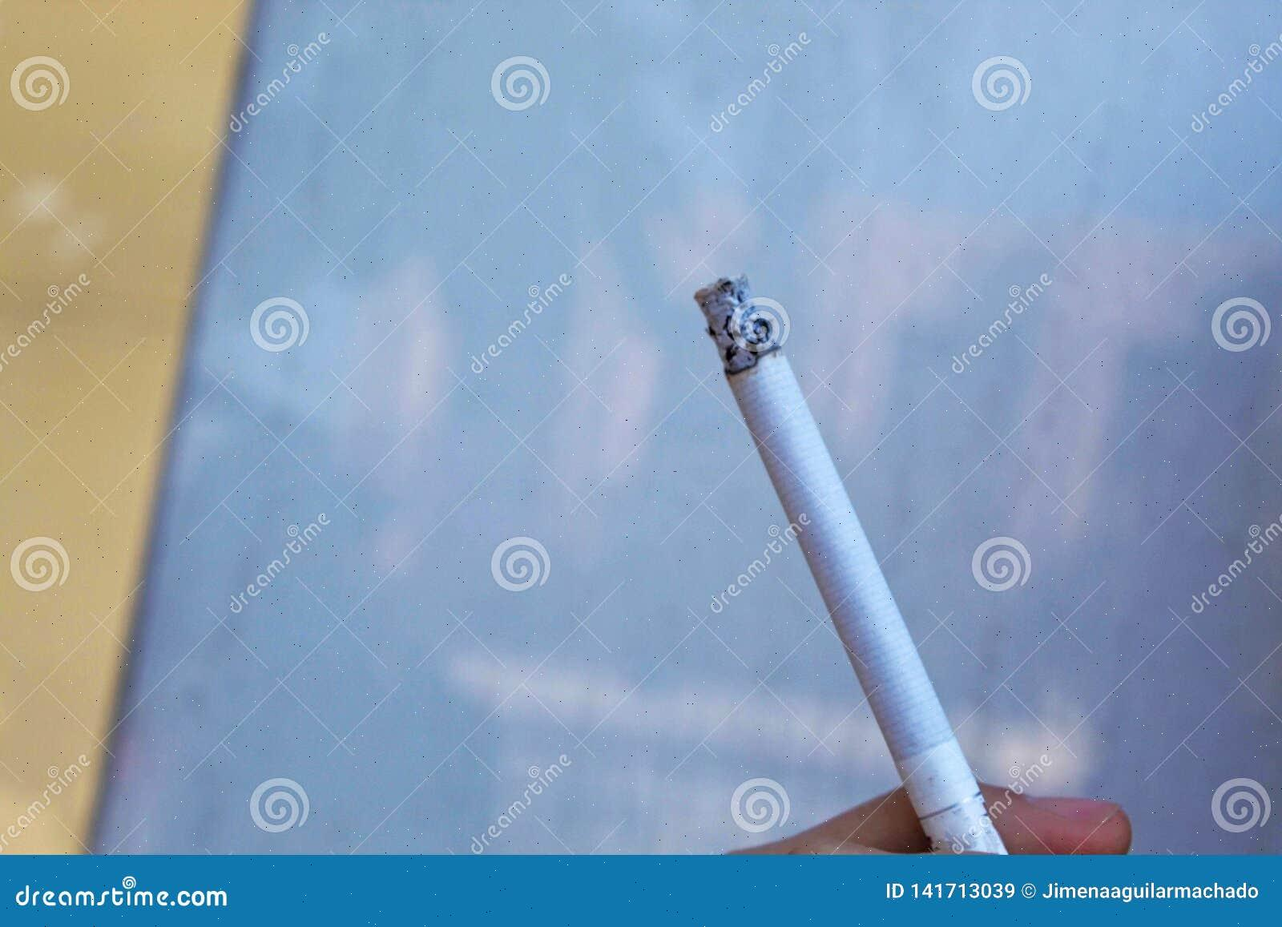cigarette: (695, 276, 1005, 852)
